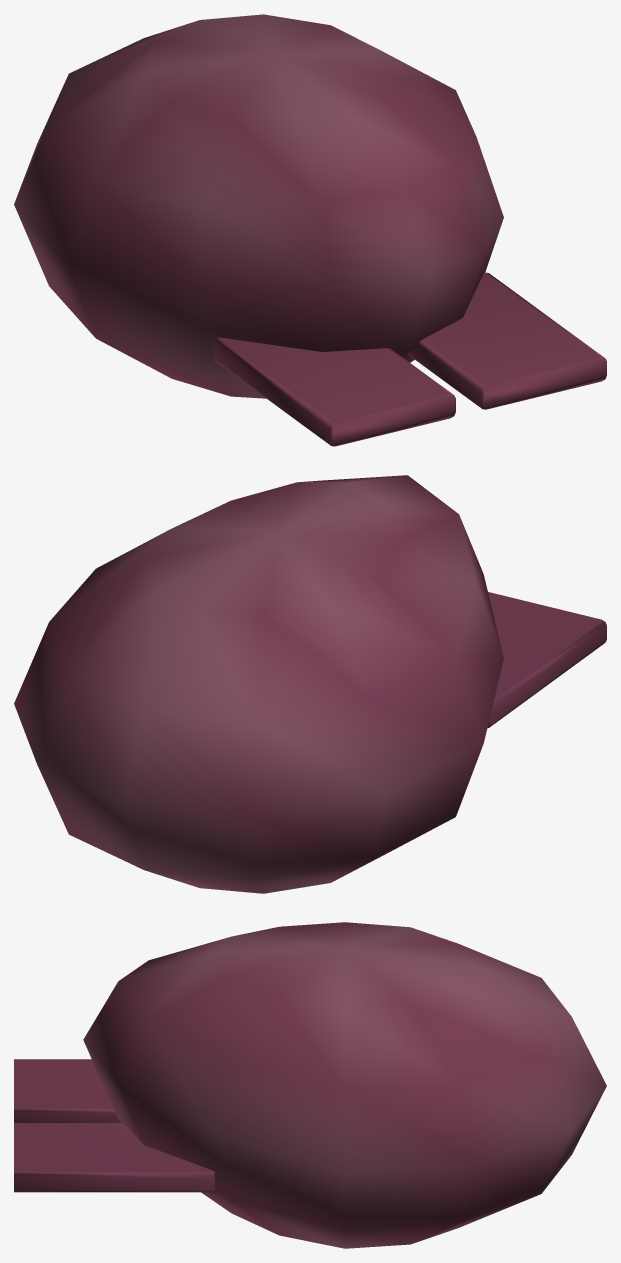
File: wear_bro_coat.glb
The picture shows the model from 3 angles, top to bottom: view 1: azimuth 30°, elevation 25°; view 2: azimuth 150°, elevation 25°; view 3: azimuth 270°, elevation 25°; orthographic projection. The views are drawn at different scales.
Parts seen in each view (by area): view 1: Item; view 2: Item; view 3: Item.
Part boxes in pixels (left/top/right/bottom): Item: left=14, top=14, right=606, bottom=446; Item: left=14, top=475, right=606, bottom=893; Item: left=14, top=922, right=606, bottom=1248.
Size of the model in its own units: 0.6794 by 0.5018 by 0.976.
